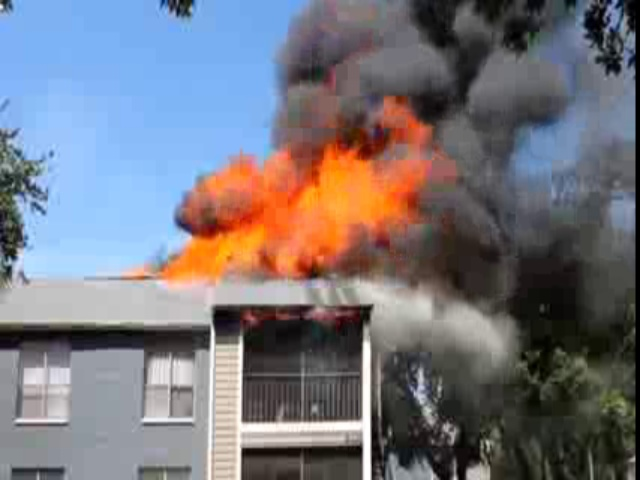fire: (173, 136, 436, 278)
